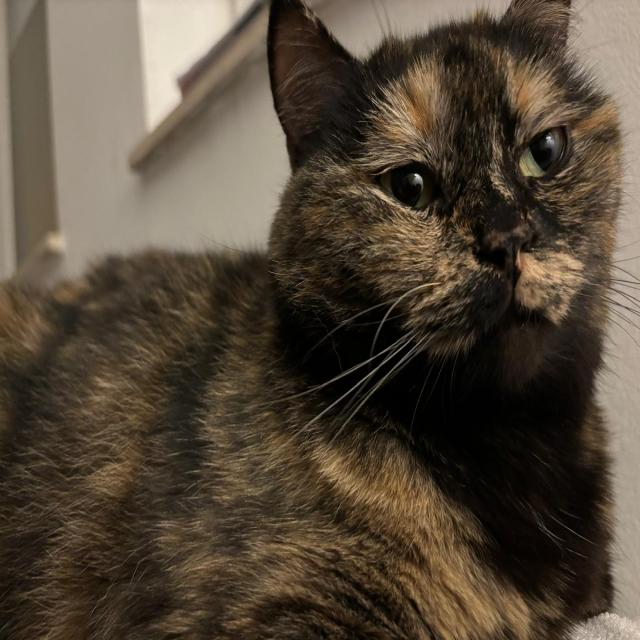authorized: (0, 1, 638, 638)
